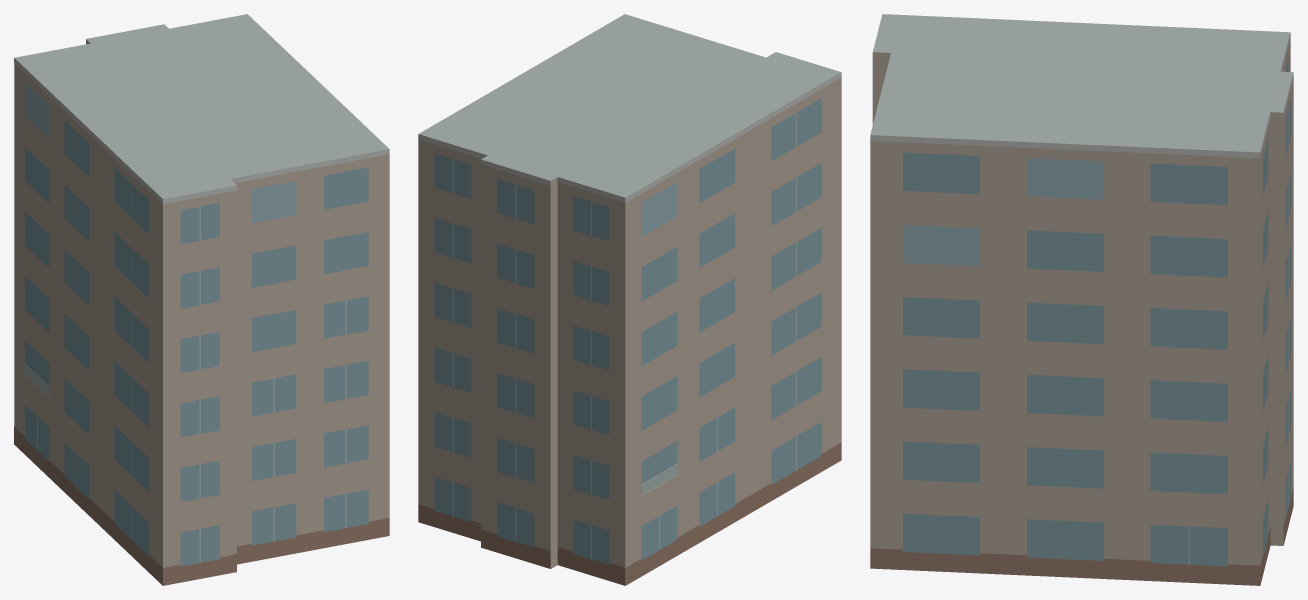
File: survey-upis-32630053.glb
3 views of the same model, side by side, from view 1: azimuth 30°, elevation 25°; view 2: azimuth 150°, elevation 25°; view 3: azimuth 270°, elevation 25° (orthographic). The views are drawn at different scales.
Parts seen in each view (by area): view 1: survey-upis-32630053.tmp; view 2: survey-upis-32630053.tmp; view 3: survey-upis-32630053.tmp.
Part boxes in pixels (x1=…): survey-upis-32630053.tmp: x1=14, y1=14, x2=389, y2=585; survey-upis-32630053.tmp: x1=418, y1=14, x2=841, y2=585; survey-upis-32630053.tmp: x1=870, y1=14, x2=1293, y2=585.
Size of the model in its own units: 12.55 by 18.3 by 16.21.
